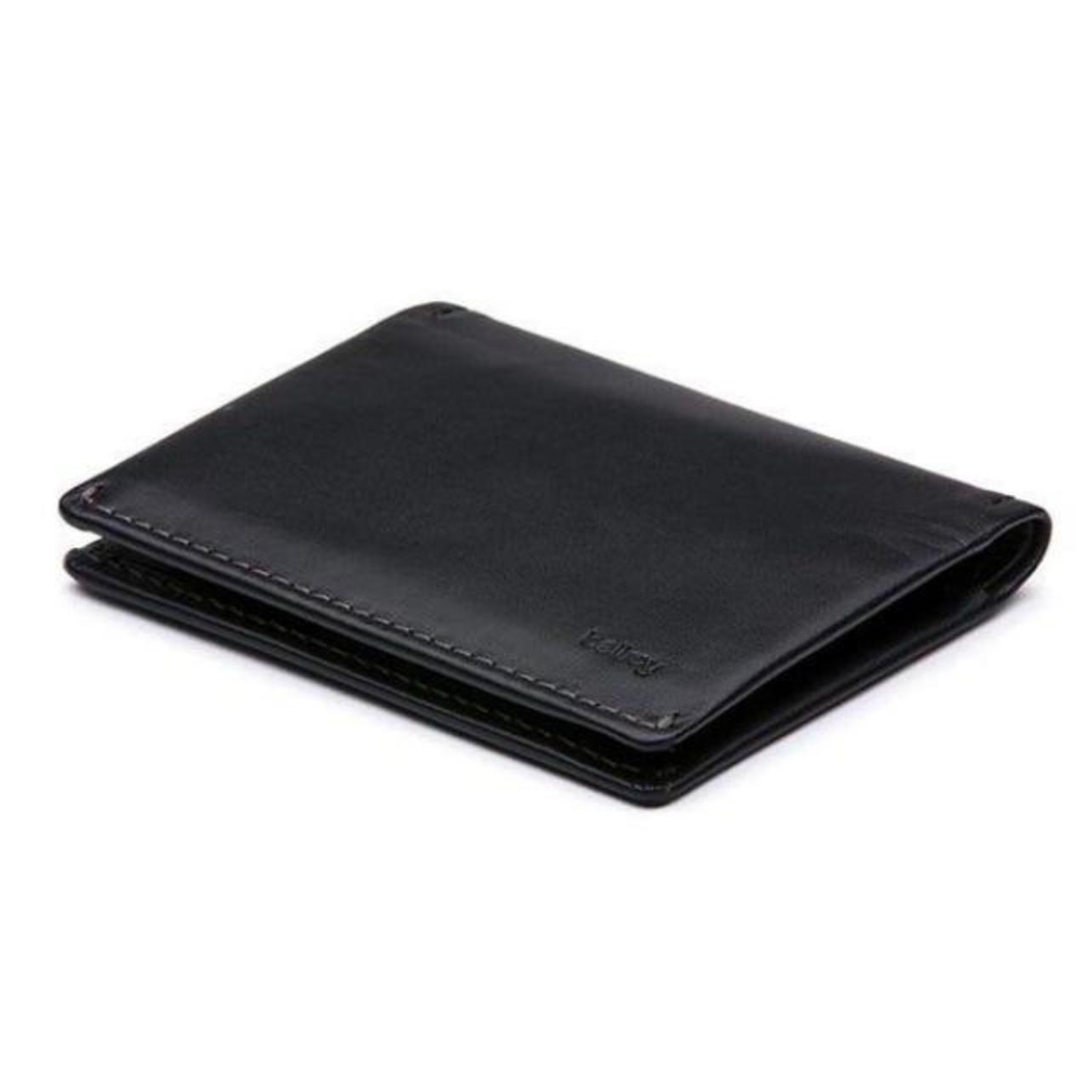wallet: (30, 249, 1061, 819)
